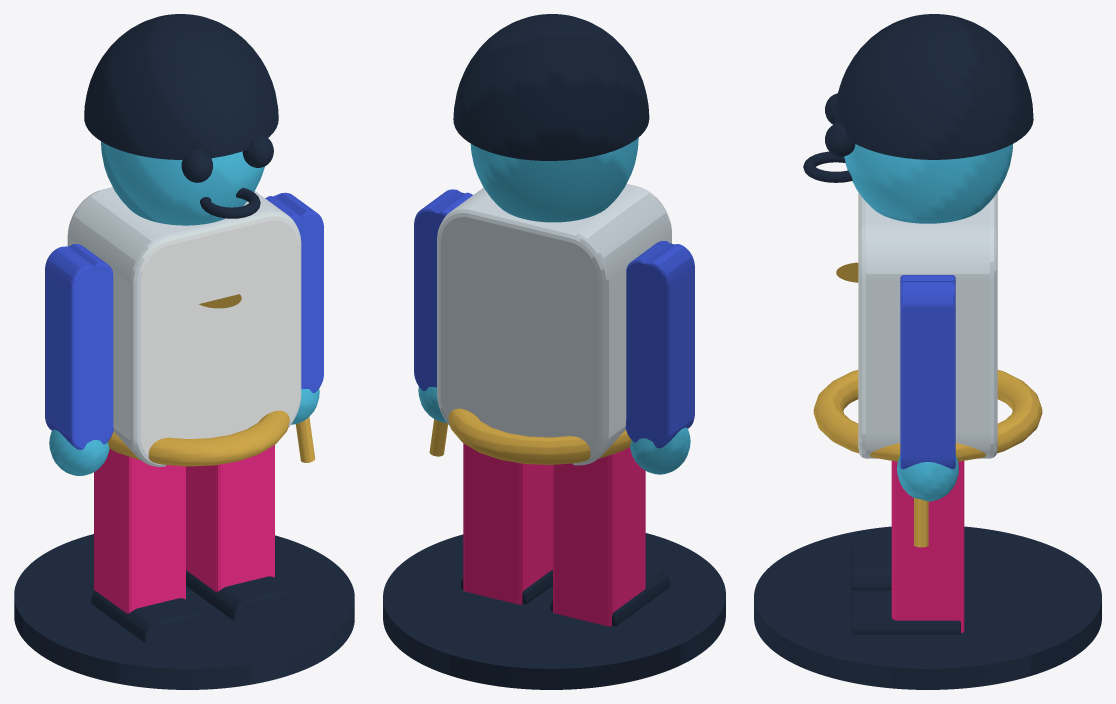
The model's file is 1168_海底两万里_维哥湾.glb.
3 renders of one model, left to right at view 1: azimuth 30°, elevation 25°; view 2: azimuth 150°, elevation 25°; view 3: azimuth 270°, elevation 25°, orthographic.
Visible parts, largest first — view 1: card_1168; view 2: card_1168; view 3: card_1168.
Part boxes in pixels (x1,y1,x2,y2): card_1168: (14, 14, 354, 689); card_1168: (383, 14, 725, 689); card_1168: (754, 14, 1101, 689).
Bounding box in the file's own units: 0.5051 × 1 × 0.5159.
